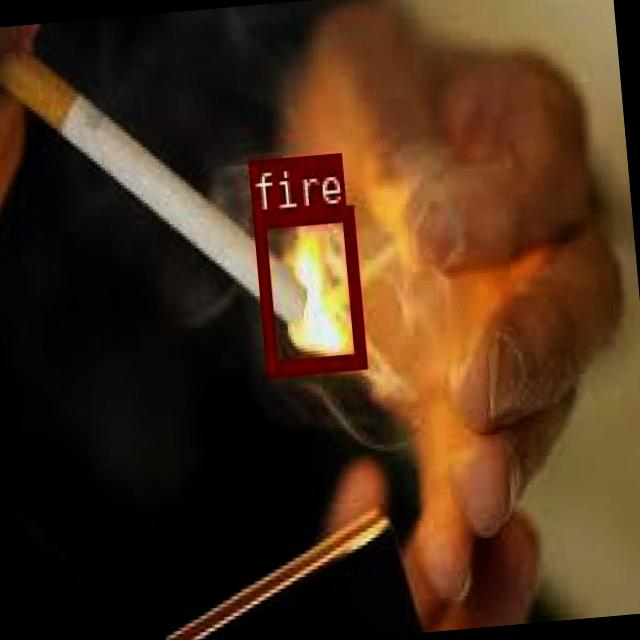fire: (250, 203, 364, 372)
